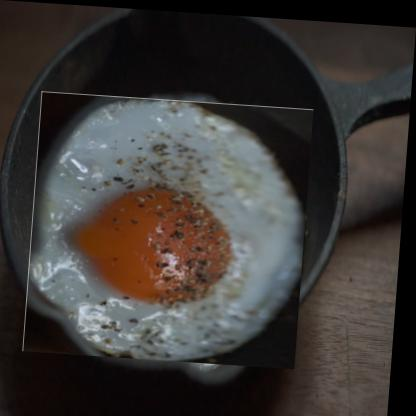egg: (31, 88, 313, 369)
